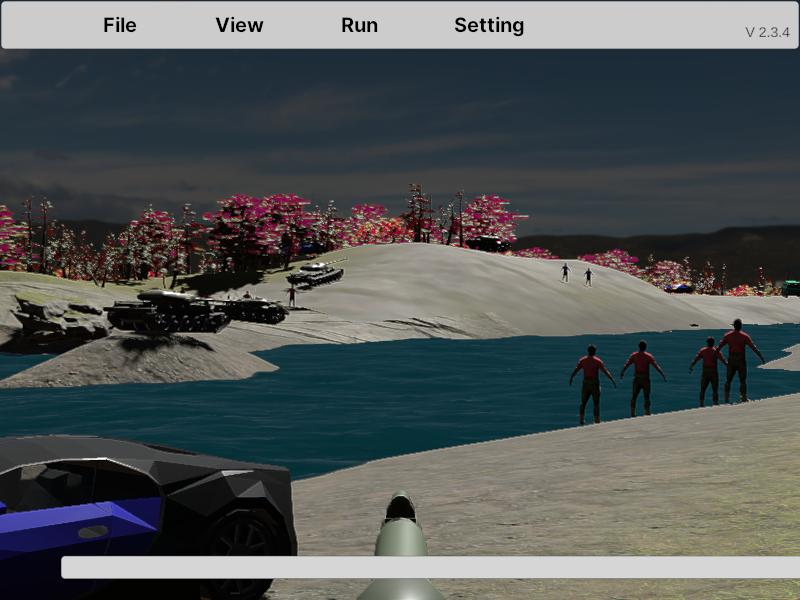Human: (714, 318, 764, 406), (569, 344, 616, 436), (620, 340, 666, 425), (689, 335, 731, 413)
Tank: (102, 288, 234, 333), (217, 294, 290, 324), (286, 255, 349, 287), (287, 255, 348, 287)
